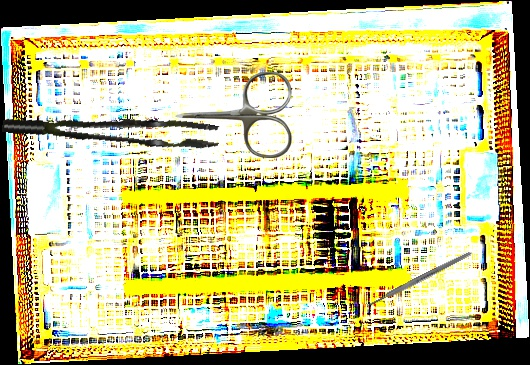Iris Scissors: (175, 72, 292, 158)
Scalpel Handle: (366, 249, 474, 309)
Tissue Forceps: (1, 89, 222, 169)
